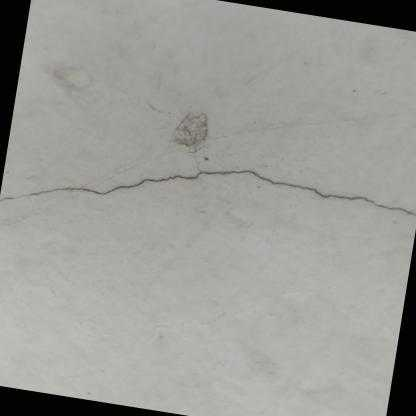crack: (0, 170, 416, 215)
